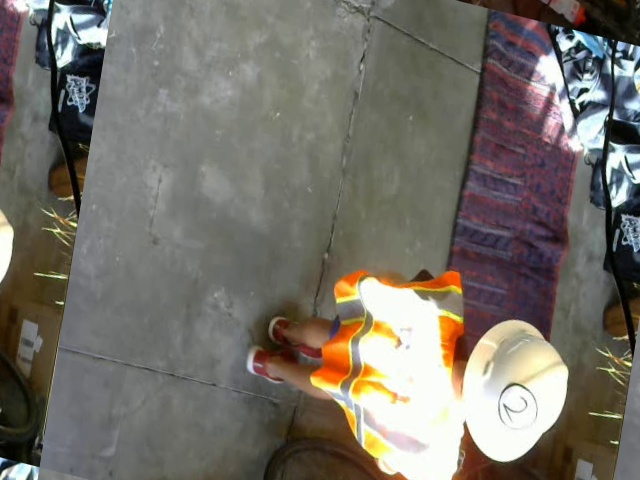two: (494, 380, 541, 437)
